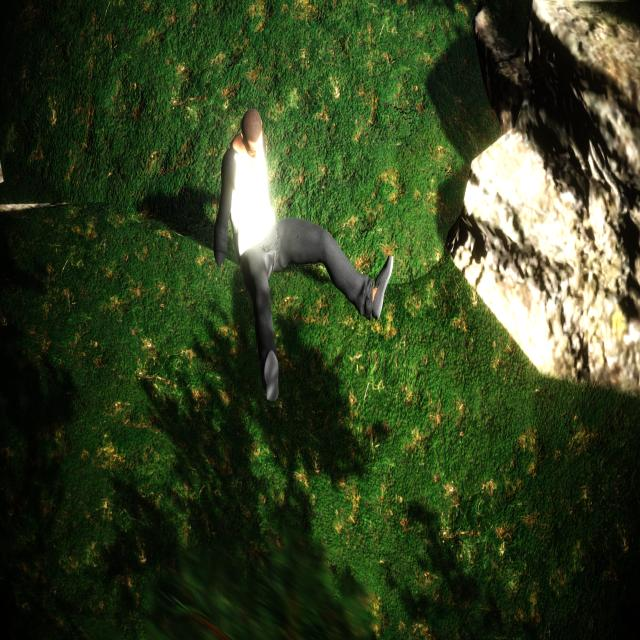Human: (210, 105, 400, 412)
